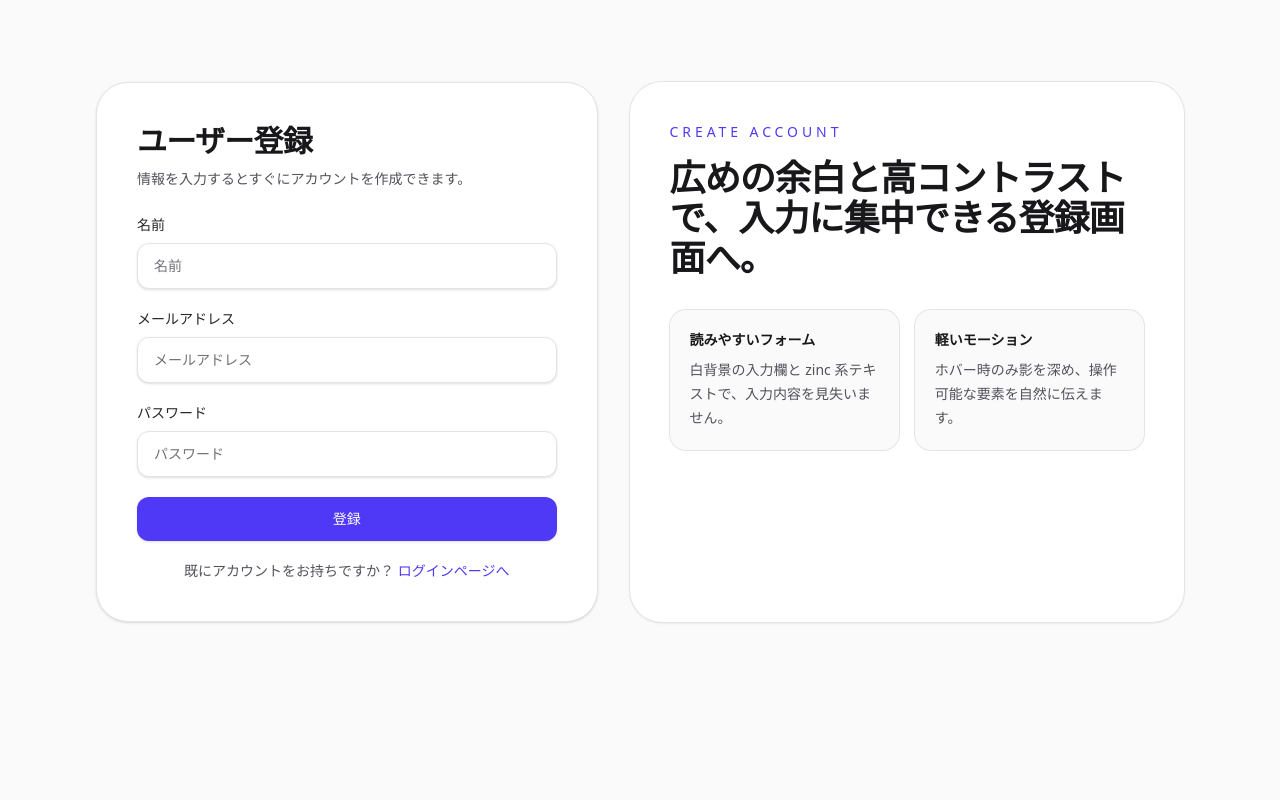
Test: RegisterPage › 異常系: メール重複でエラーメッセージを表示
Type "新規 ユーザー" into the field with placeholder "名前". click: point(347, 266)
box: x1=137 y1=243 x2=557 y2=289
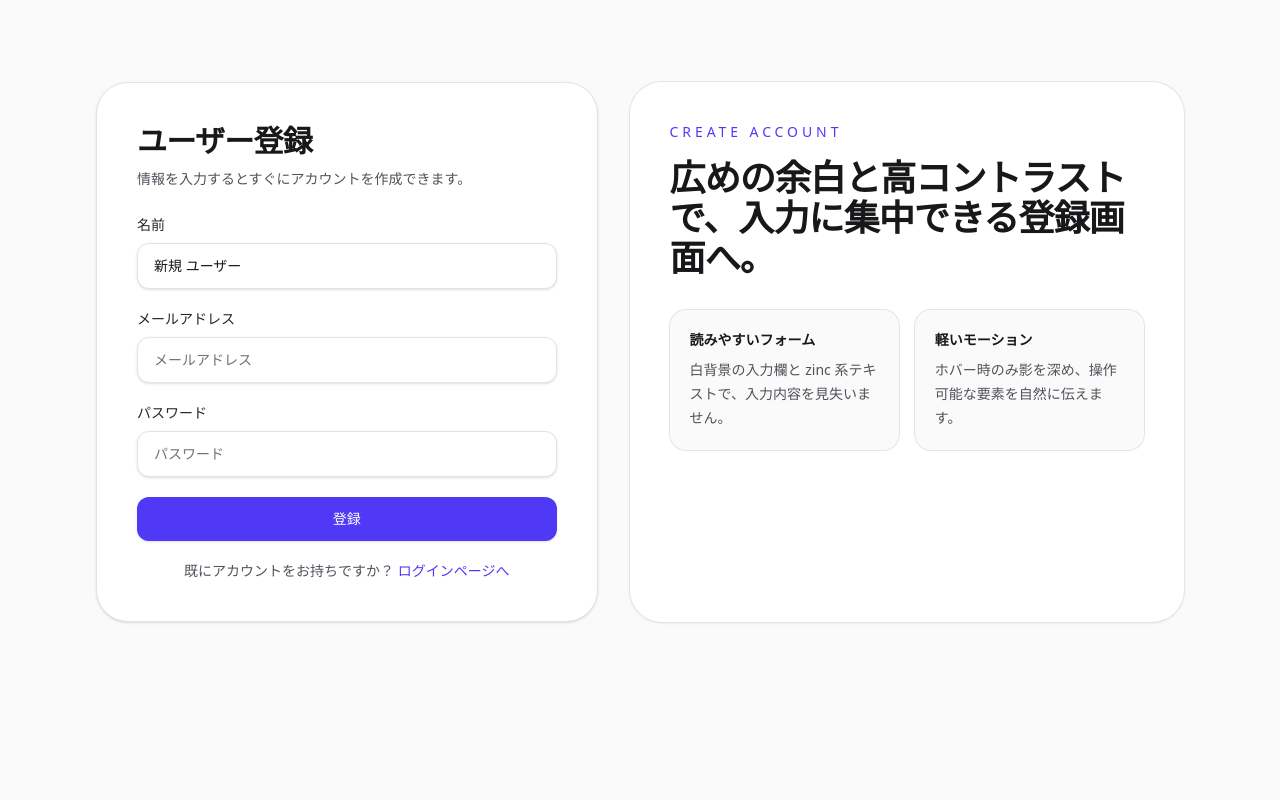
Type "existing@example.com" into the field with placeholder "メールアドレス". click: point(347, 360)
box: x1=137 y1=337 x2=557 y2=383
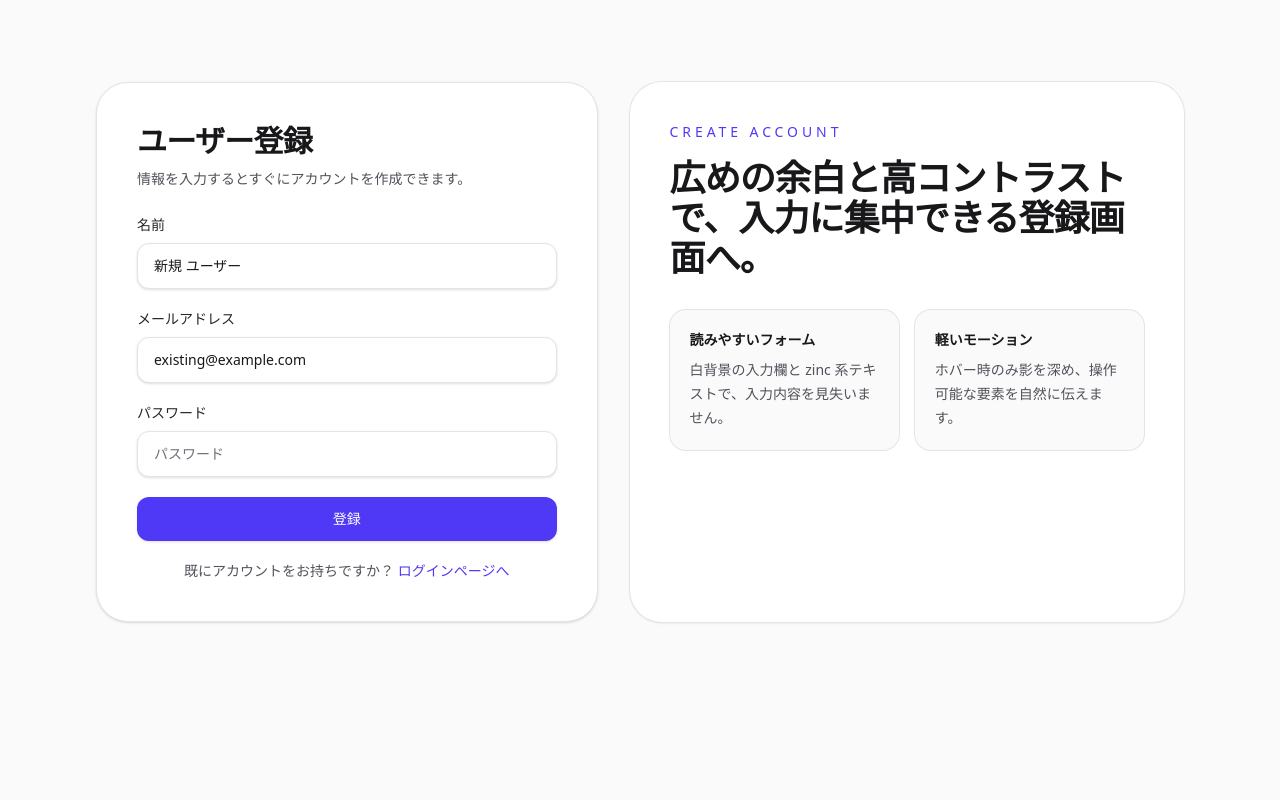
Type "password123" into the password field with placeholder "パスワード". click: point(347, 454)
box: x1=137 y1=431 x2=557 y2=477
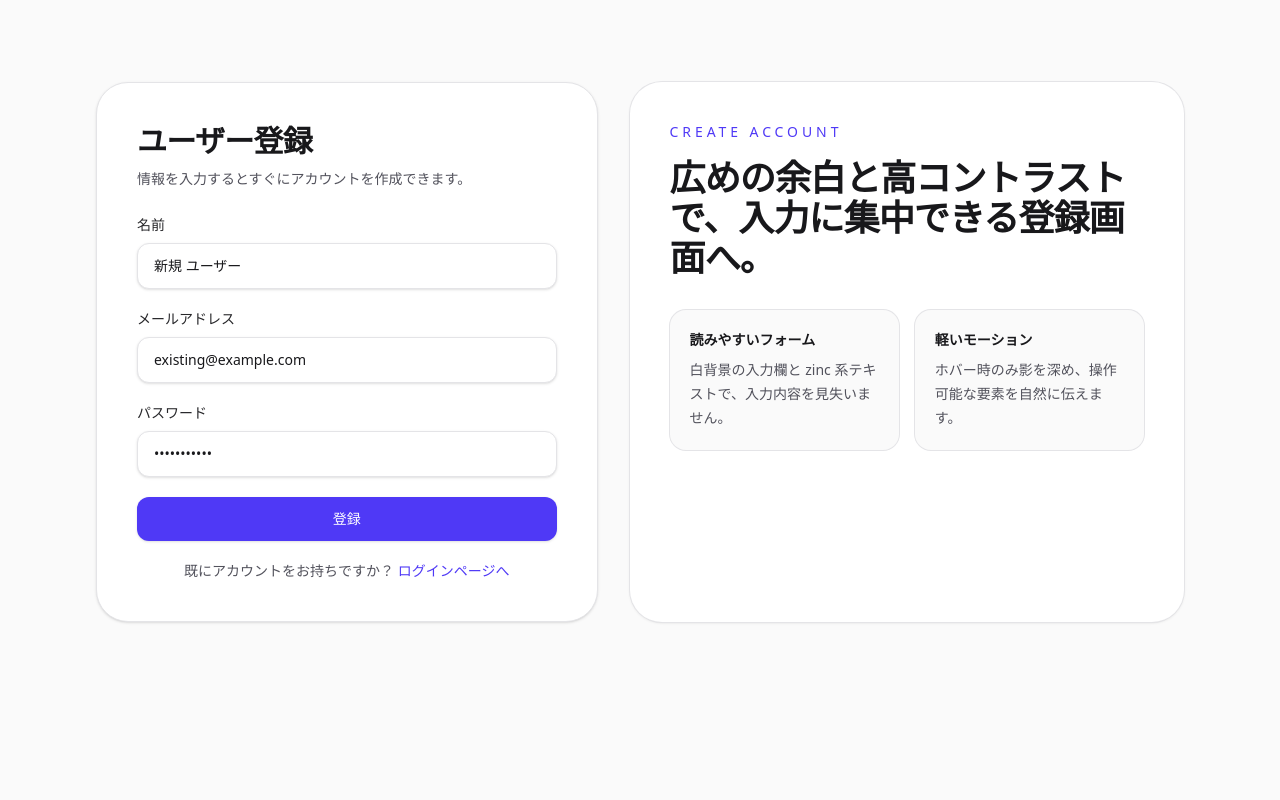
Click the button "登録". click: point(347, 519)
box: x1=137 y1=497 x2=557 y2=541
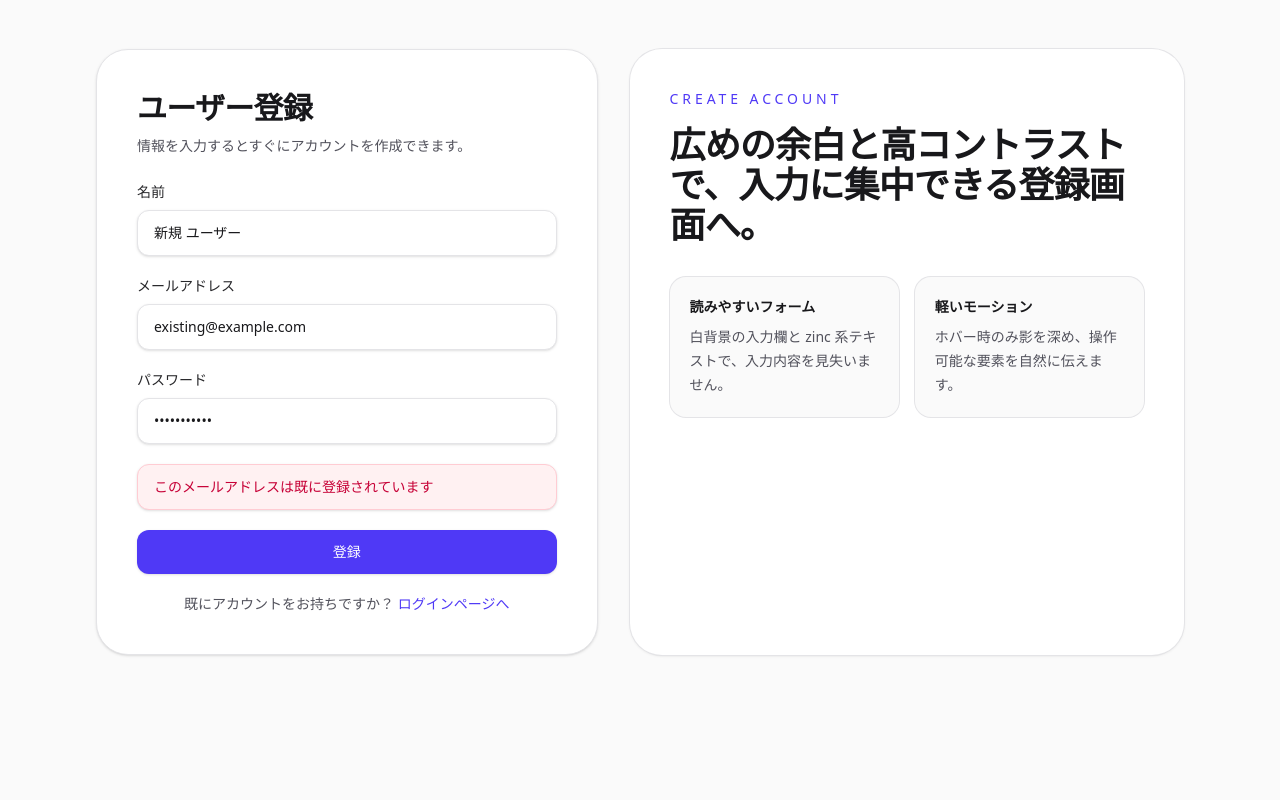
Check: the text "このメールアドレスは既に登録されています" is shown, box x1=137 y1=464 x2=557 y2=510
